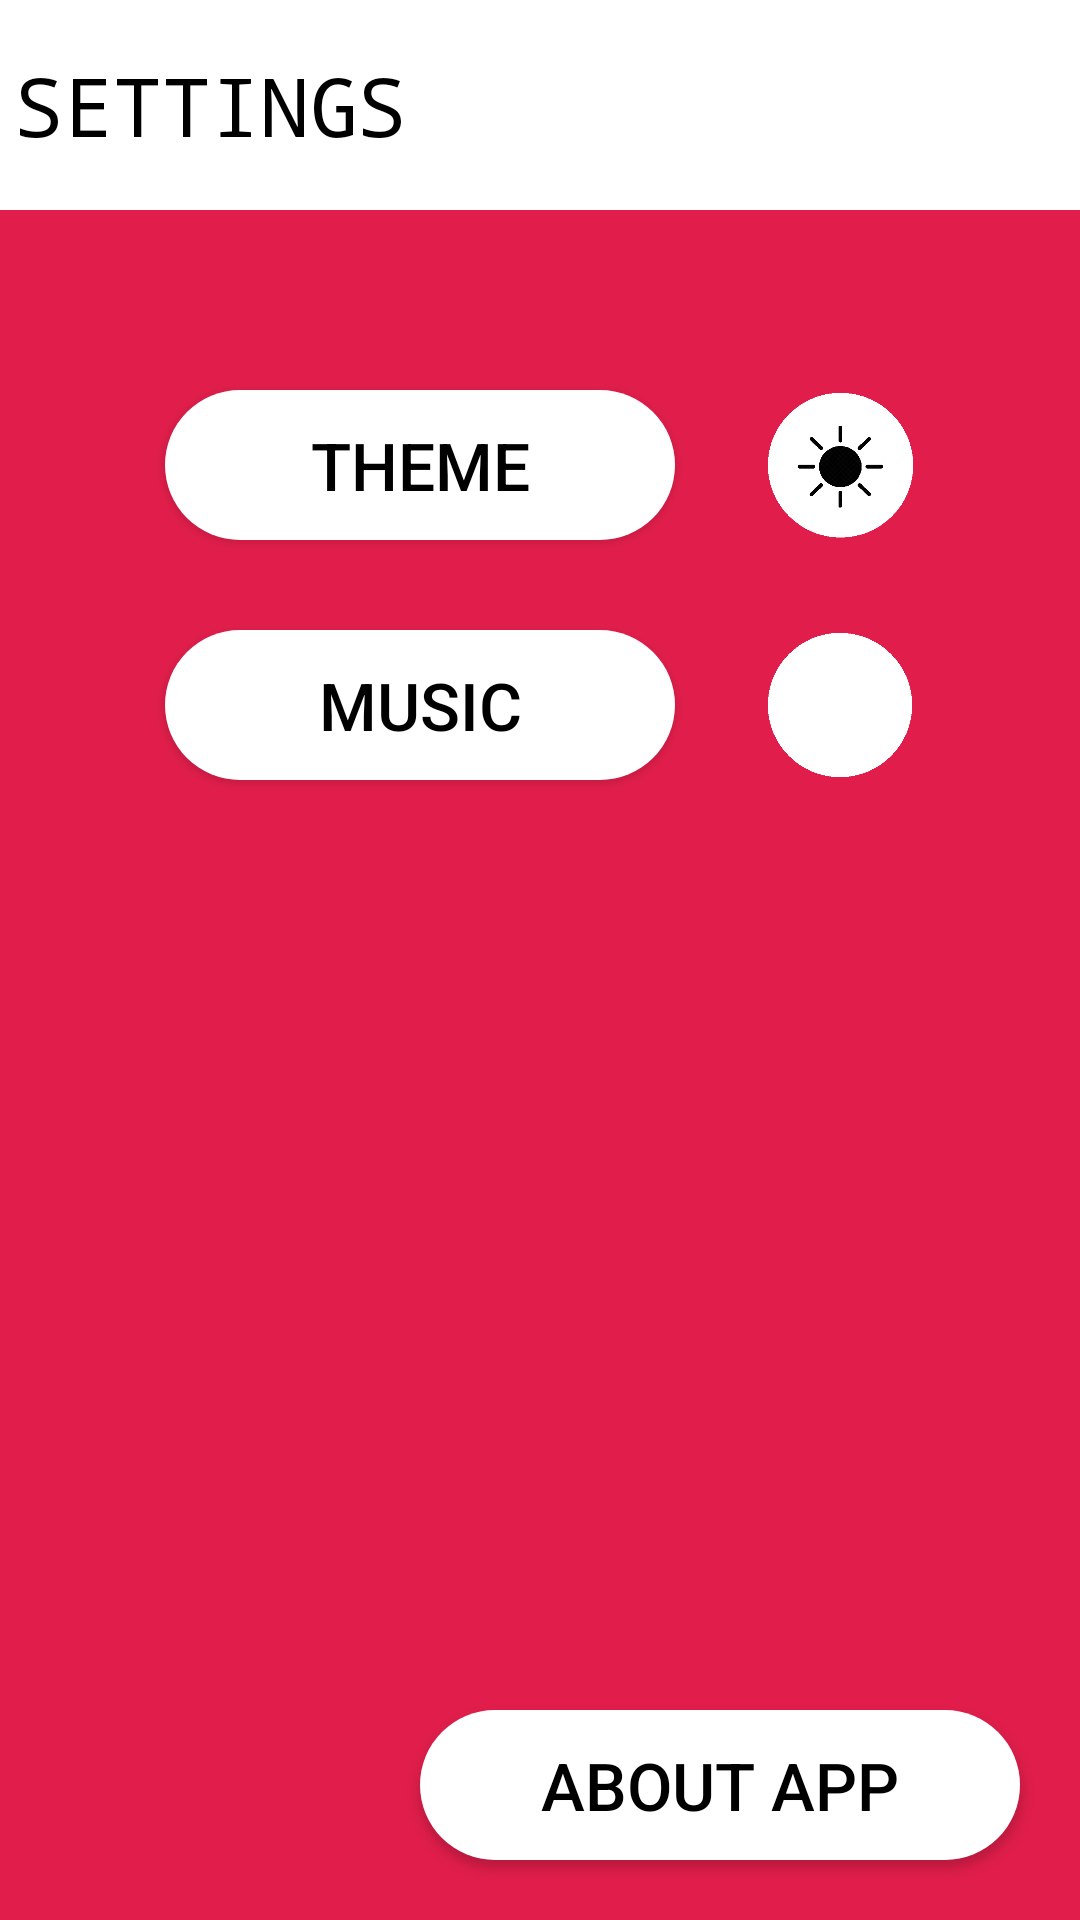

Point at icon controls on the screen. Image size 1080×1920, points as (x,y).
sunlight: (840,465)
